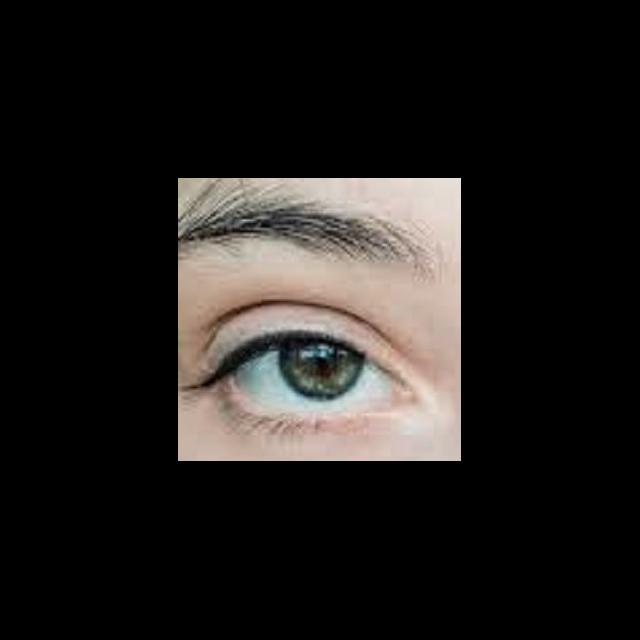eye: (236, 338, 395, 412)
iris: (280, 341, 364, 402)
